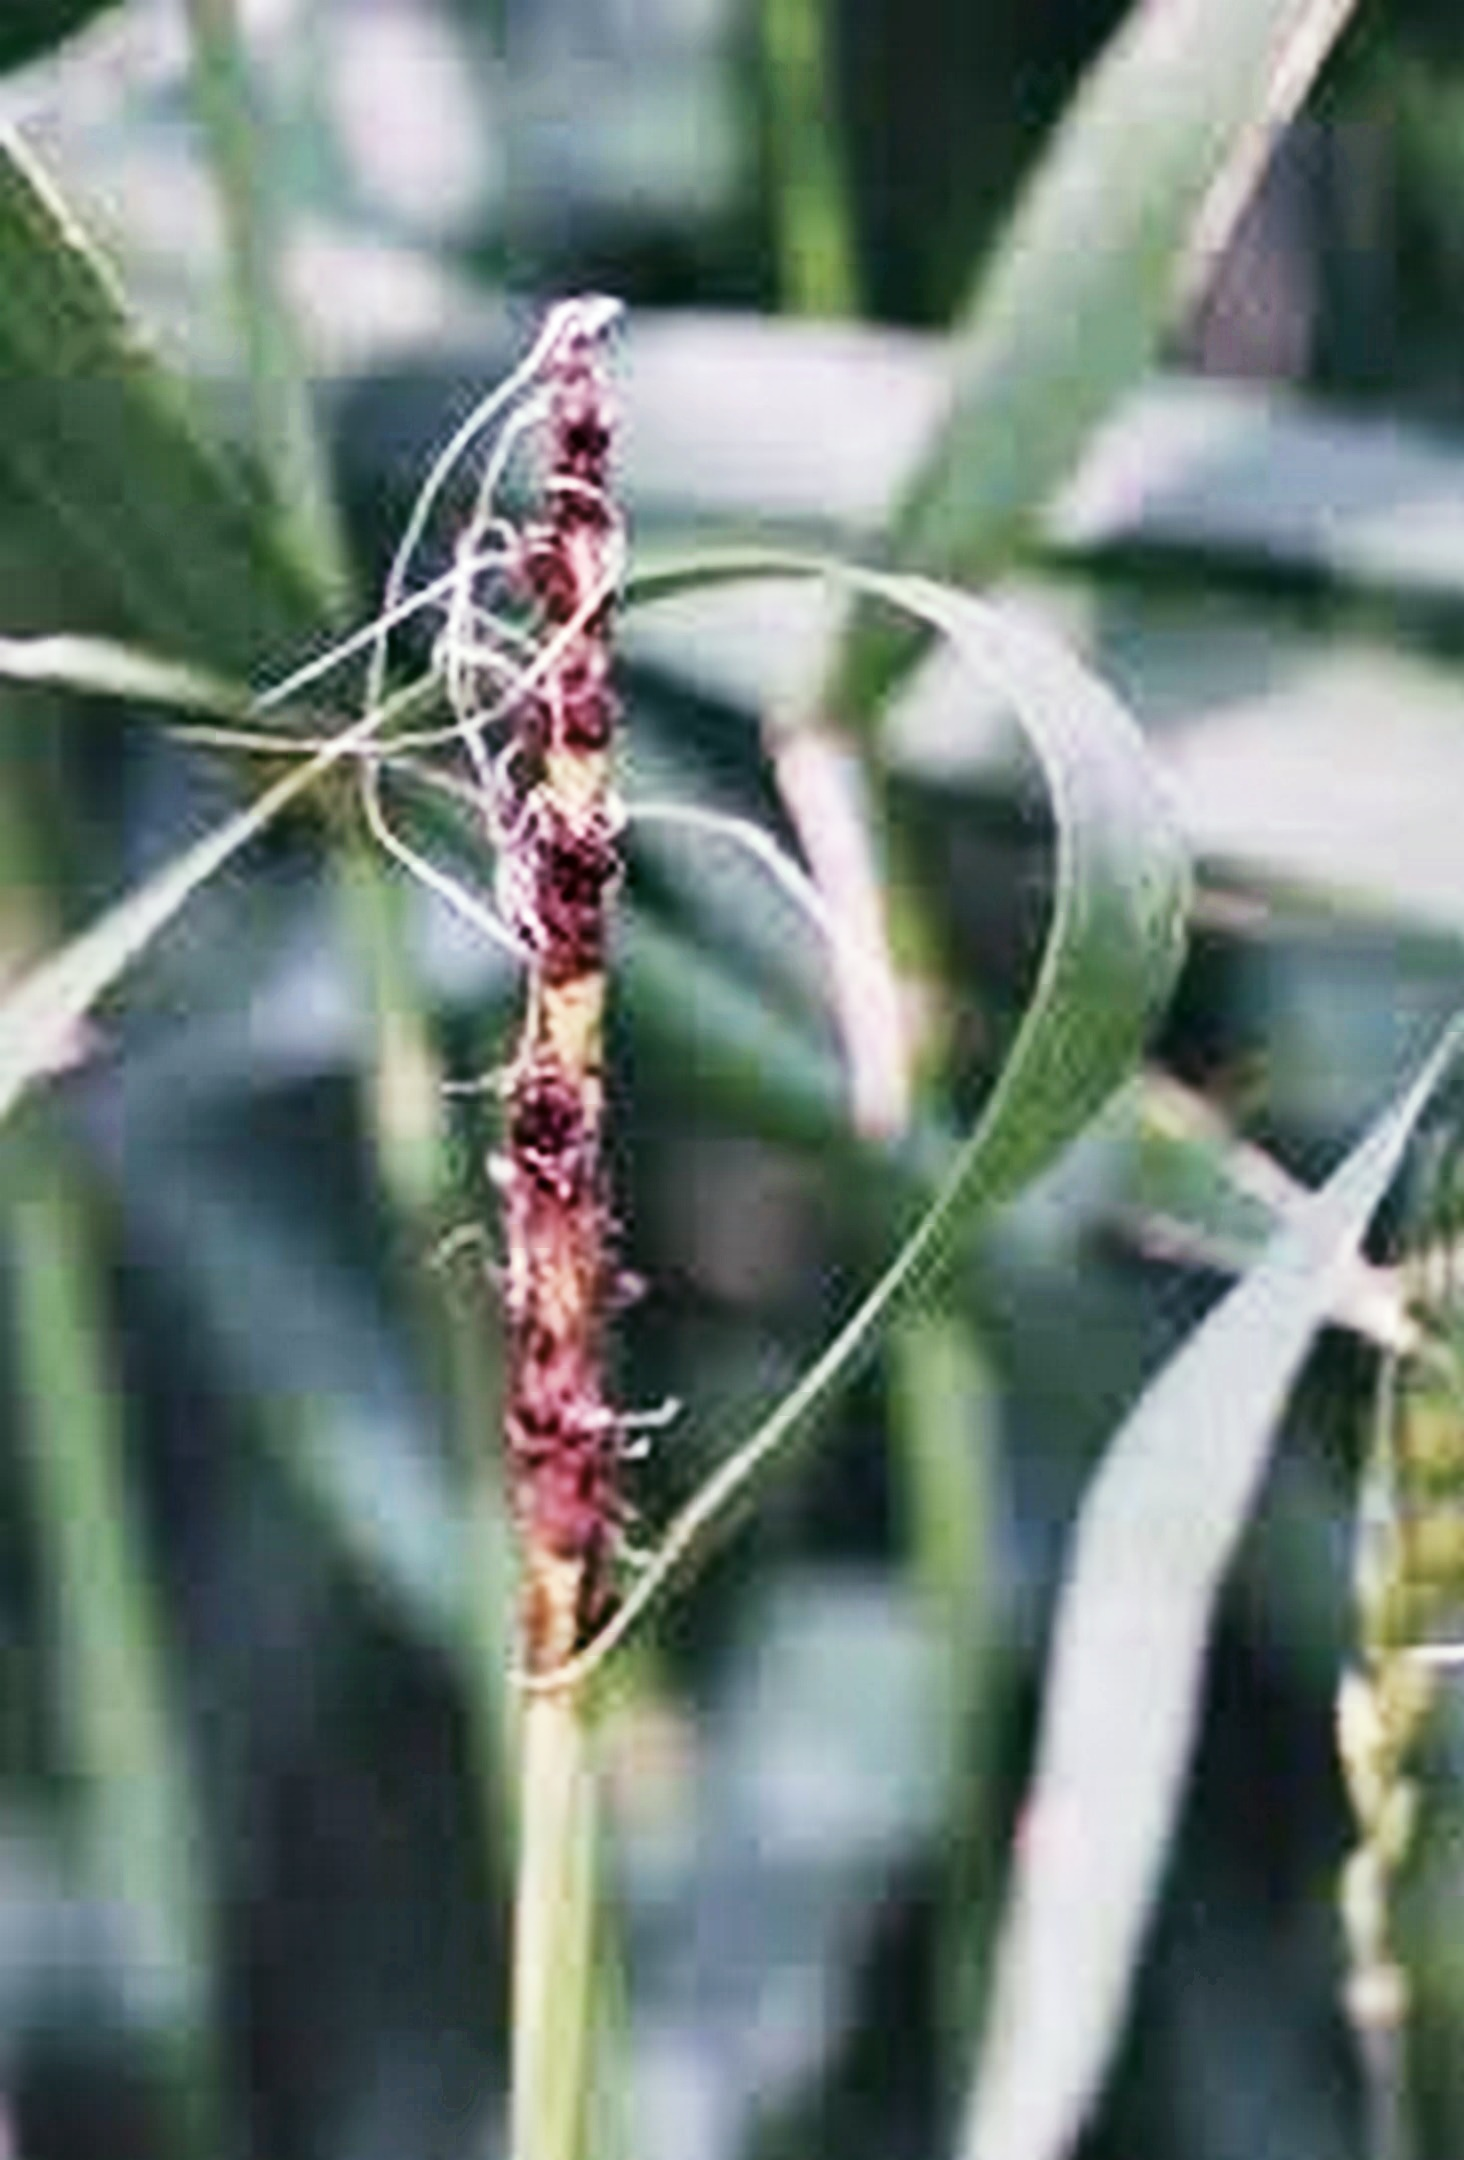Wheat Loose Smut: (438, 301, 719, 1542)
